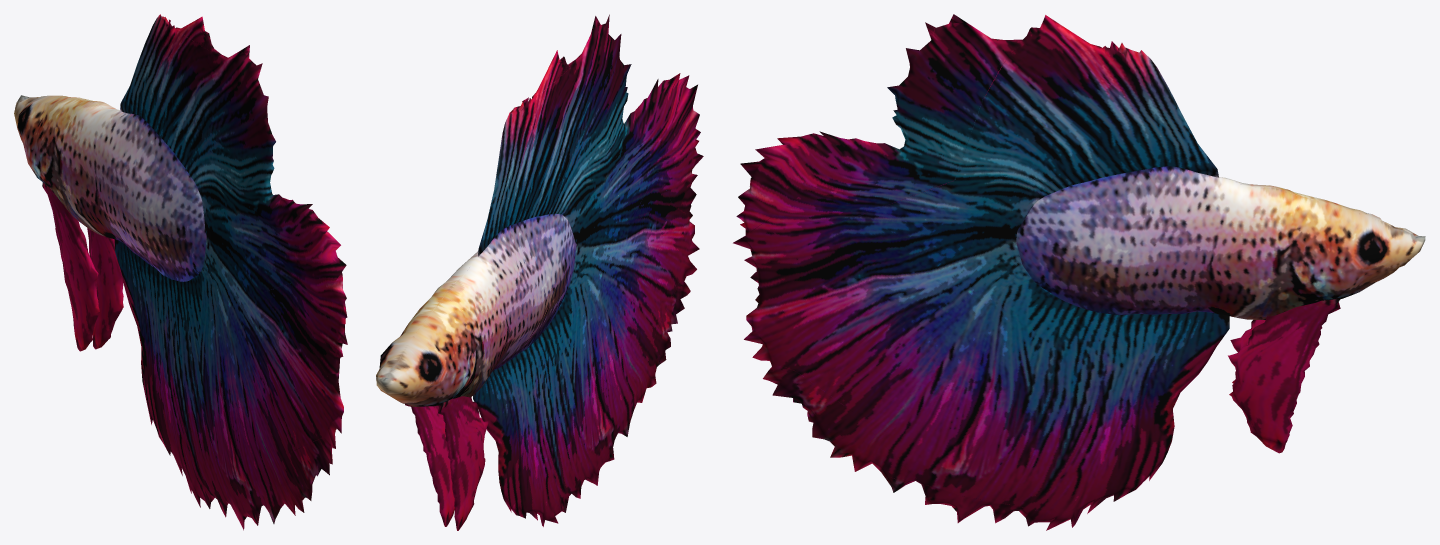
File: Betta Fish.fbx
3 views of the same model, side by side, from view 1: azimuth 30°, elevation 25°; view 2: azimuth 150°, elevation 25°; view 3: azimuth 270°, elevation 25° (orthographic). The views are drawn at different scales.
Visible parts, largest first — view 1: body.1; view 2: body.1; view 3: body.1.
Boxes of the visible parts, bbox=[...] form: body.1: bbox=[14, 14, 347, 530]; body.1: bbox=[376, 14, 703, 530]; body.1: bbox=[733, 14, 1425, 530].
Bounding box in the file's own units: 0.0329 × 0.2585 × 0.2139.
1 material, 1 textured.
